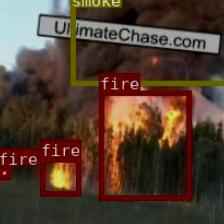fire: (98, 90, 190, 200), (40, 156, 80, 195), (0, 164, 10, 179)
smoke: (70, 0, 223, 84)
